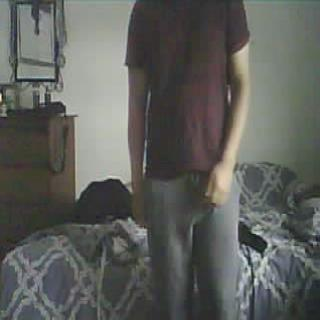Gray Sweatpants: (140, 172, 245, 320)
Maroon T-Shirt: (136, 0, 247, 167)
